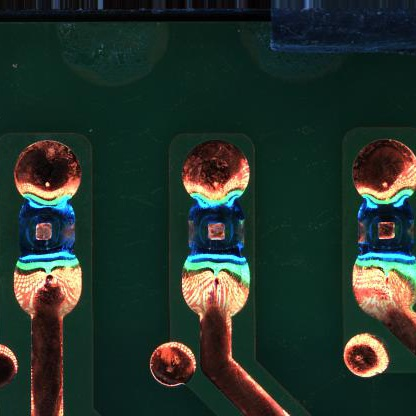spot: (183, 202, 246, 263), (354, 199, 413, 264), (18, 199, 75, 256)
